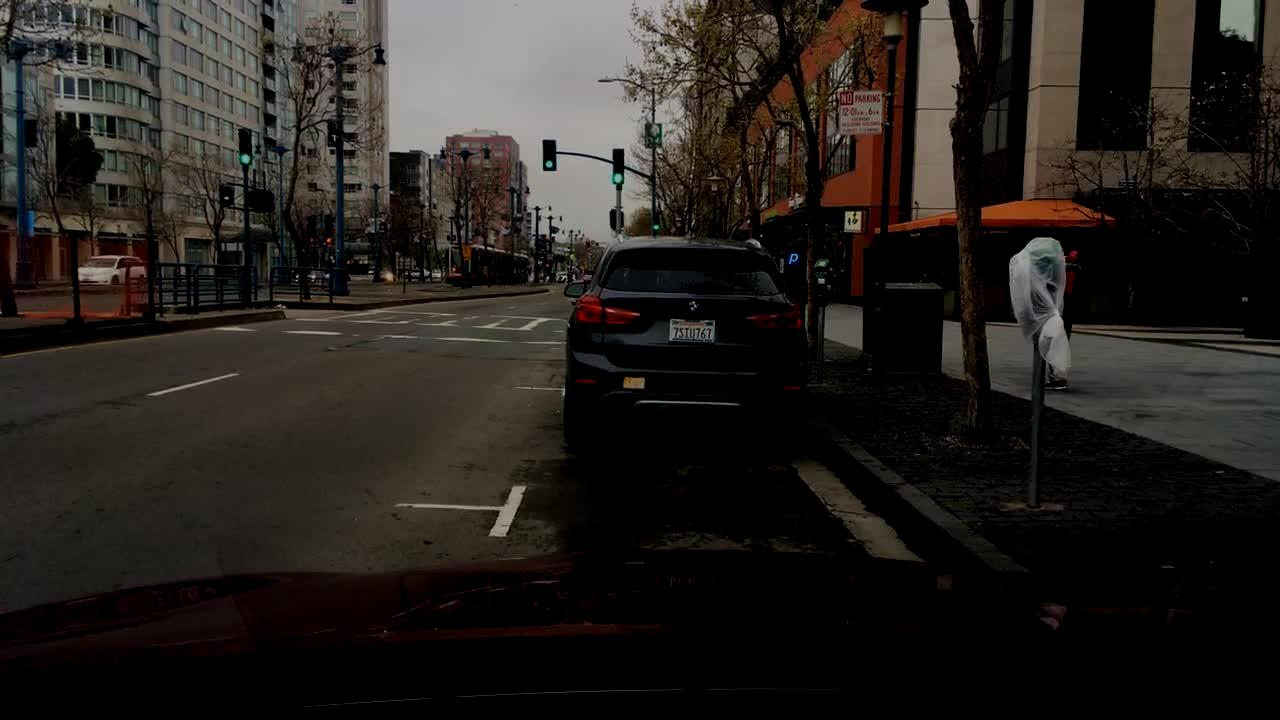bmw: (682, 298, 707, 316)
